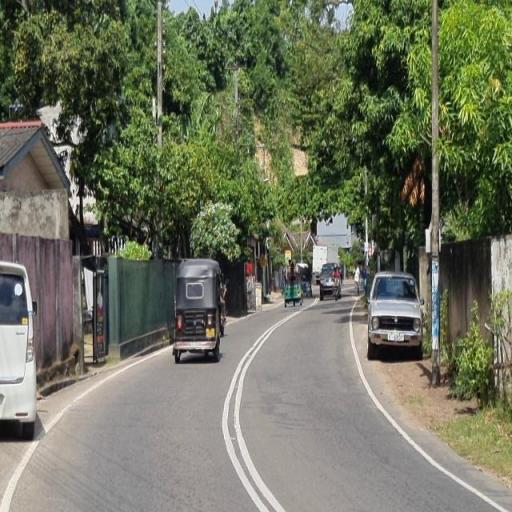double_white_line: (346, 302, 506, 510), (222, 309, 290, 511)
